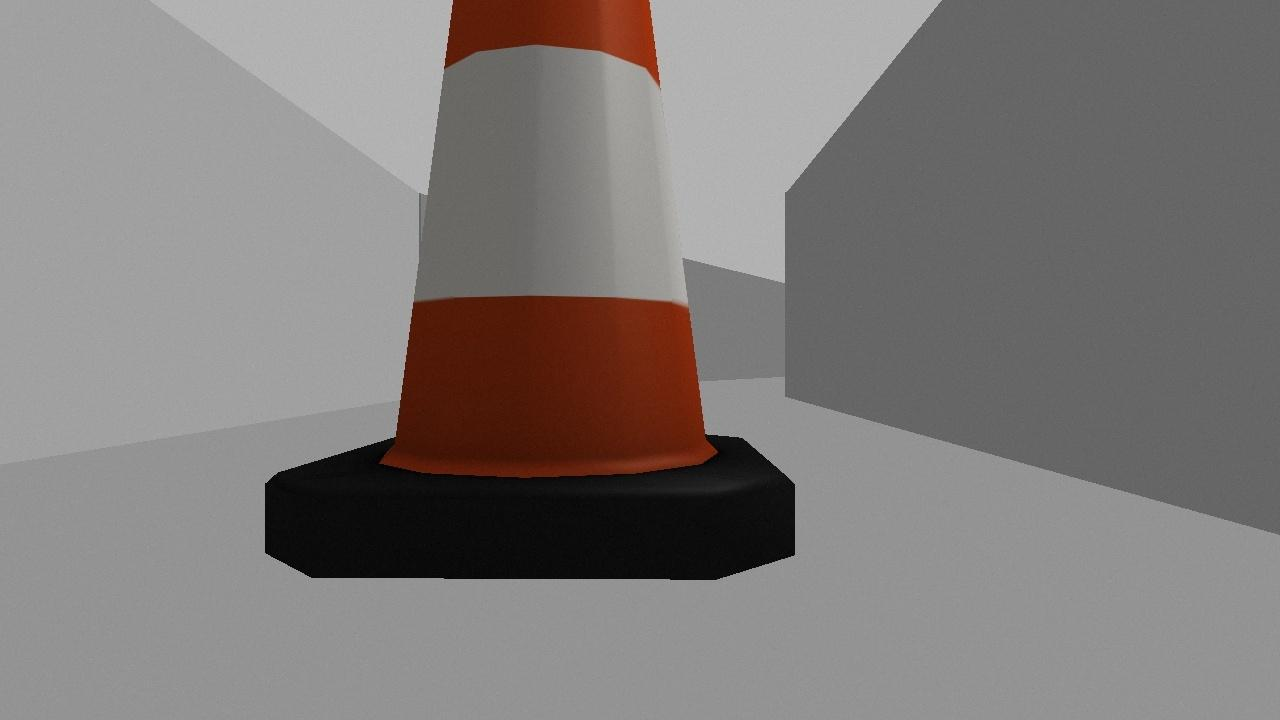cone_barrel: (228, 0, 847, 623)
